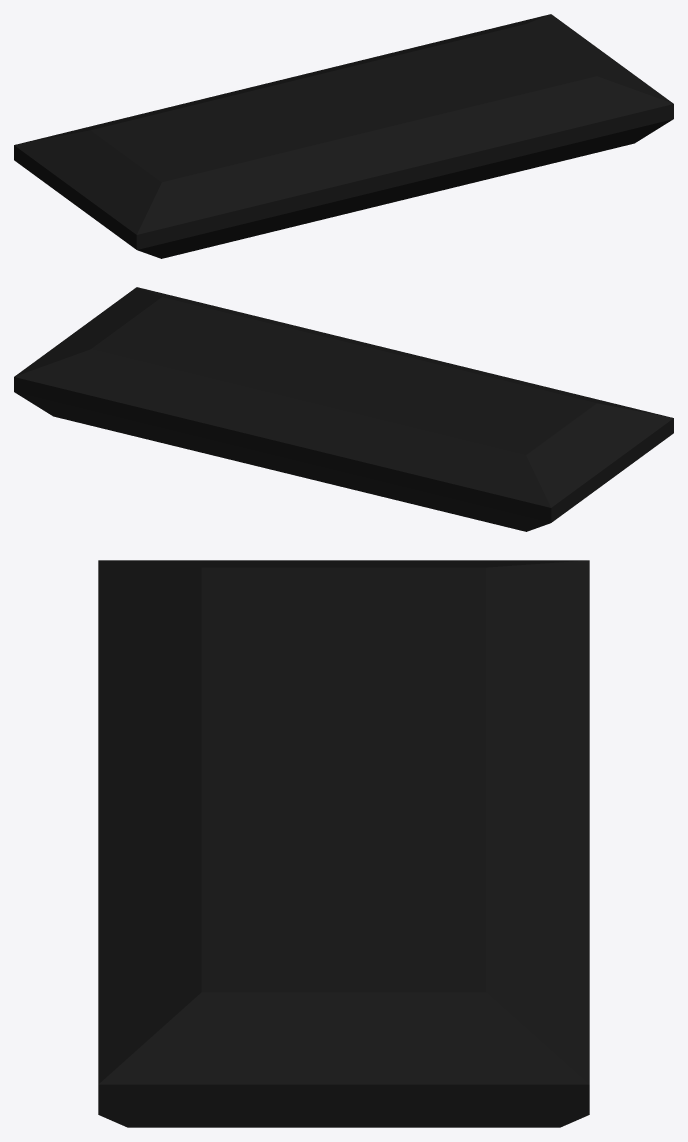
File: Itr_Wardrobe1_Top_03.FBX
3 views of the same model, one above another, from view 1: azimuth 30°, elevation 25°; view 2: azimuth 150°, elevation 25°; view 3: azimuth 270°, elevation 25° (orthographic). The views are drawn at different scales.
Visible parts, largest first — view 1: Itr_Wardrobe1_Top_03; view 2: Itr_Wardrobe1_Top_03; view 3: Itr_Wardrobe1_Top_03.
Boxes of the visible parts, x1,y1,x2,y2 form: Itr_Wardrobe1_Top_03: [14, 14, 673, 258]; Itr_Wardrobe1_Top_03: [14, 287, 673, 531]; Itr_Wardrobe1_Top_03: [98, 560, 589, 1127].
Size of the model in its own units: 50.57 by 5.25 by 20.02.
